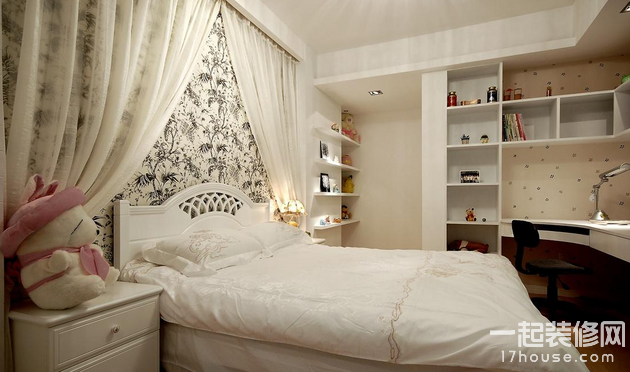床: (116, 241, 539, 368)
枕头: (131, 222, 315, 277)
灯: (591, 163, 626, 221), (270, 196, 304, 229), (366, 89, 385, 98)
